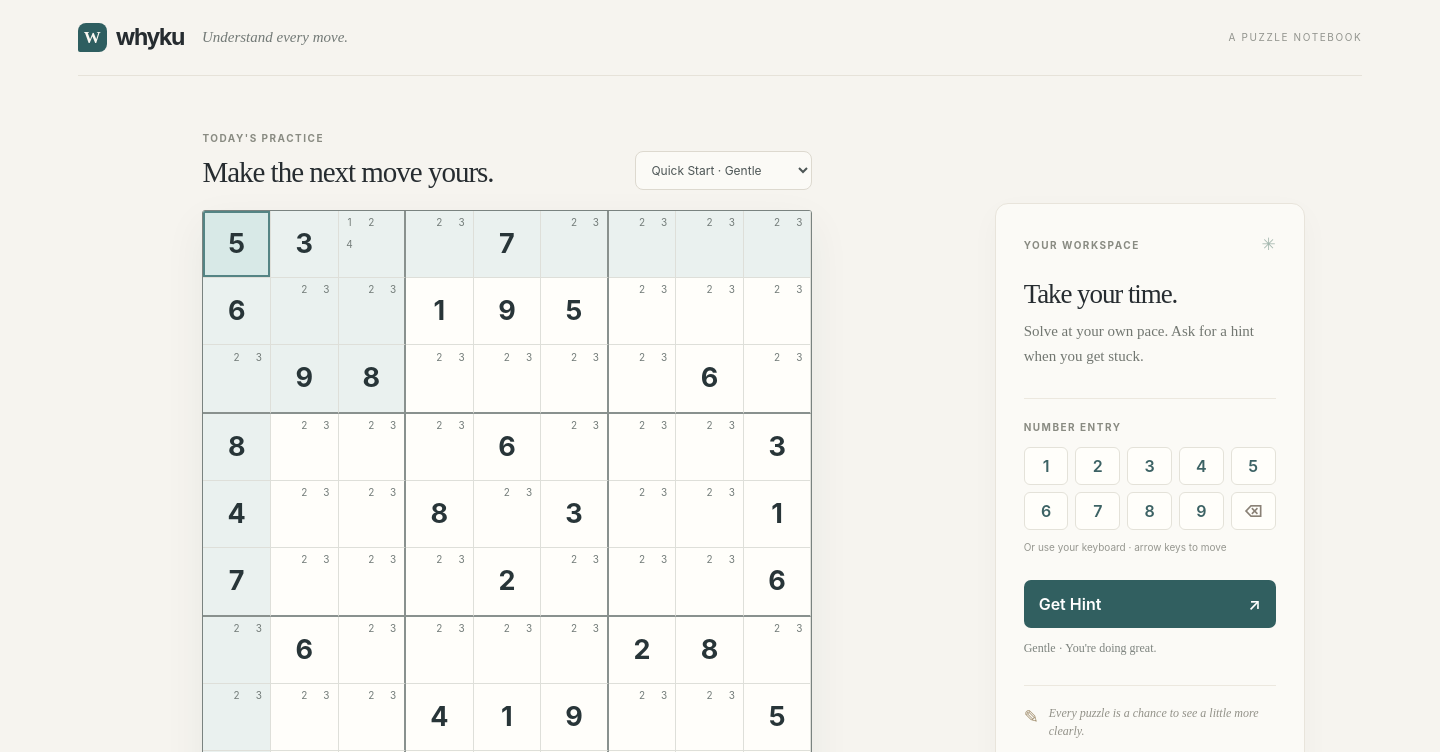
Scenario: playable grid › switches puzzles to a fresh board
Select "More Space · Gentle" in the dropdown named "choose puzzle" at [724, 170], box [635,151,812,190]
(page scrolled)
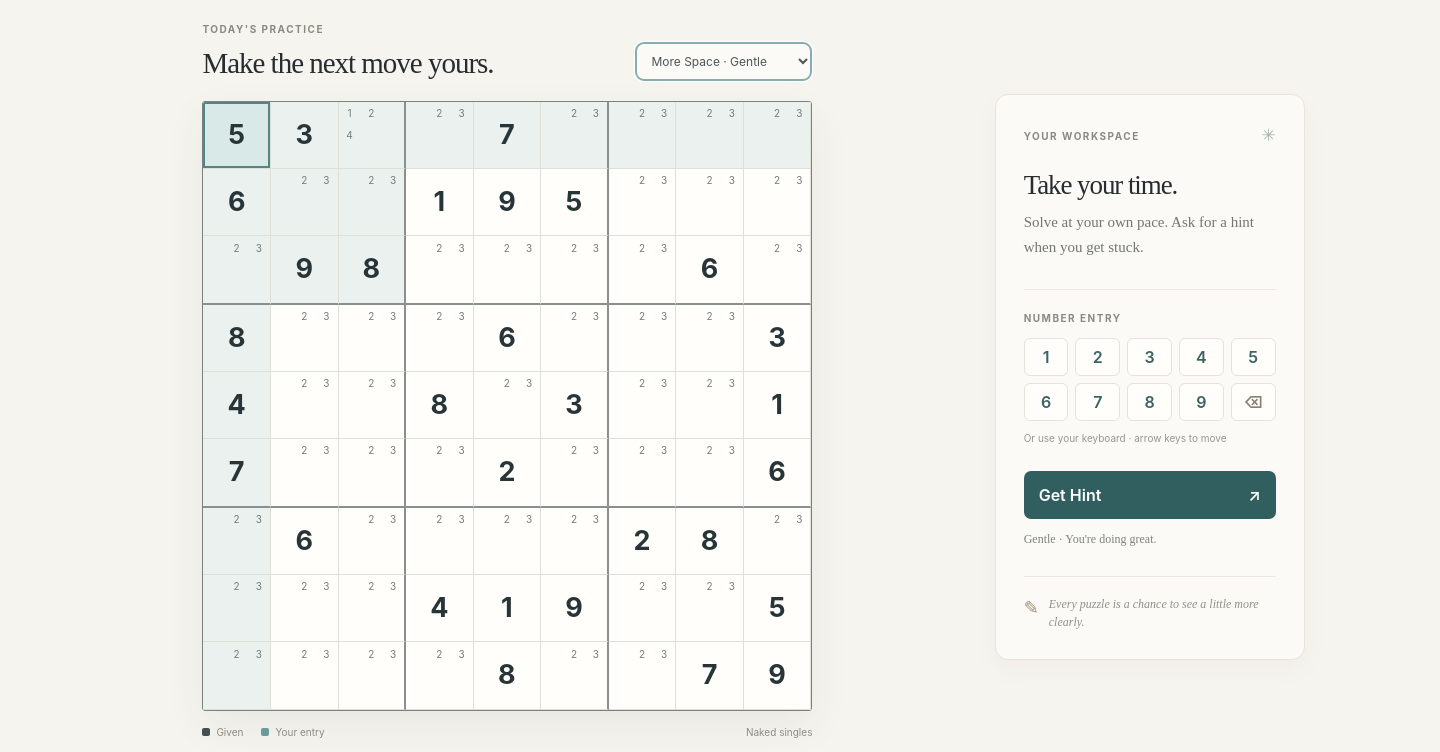
expect the table named "more space board" is shown: met, box [202,101,812,711]
